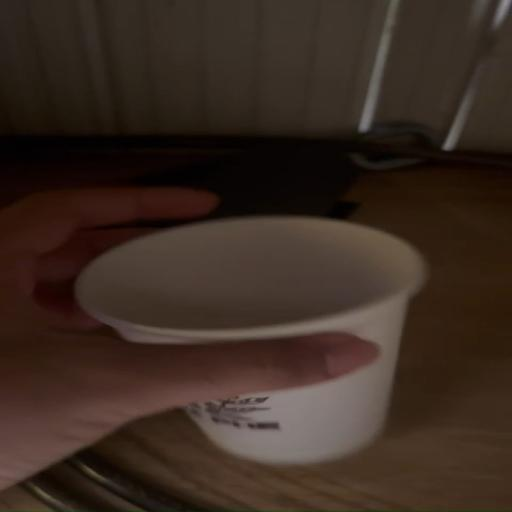Ly_giay: (75, 215, 426, 463)
